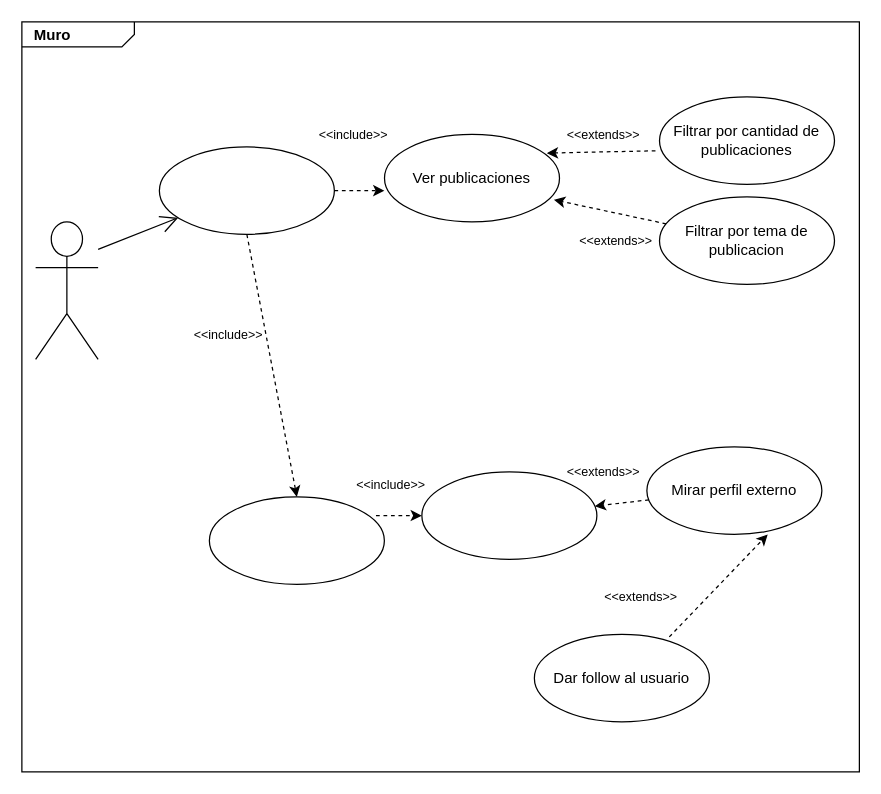
The diagram is 881 pixels wide and 794 high, and some of its shapes have lost their labels. Here are the shapes that lost their labels. From the top down, the centre of each, then its label:
At pixel 246 190: "Ver muro".
At pixel 509 515: "Ver resultados".
At pixel 296 540: "Buscar persona".
